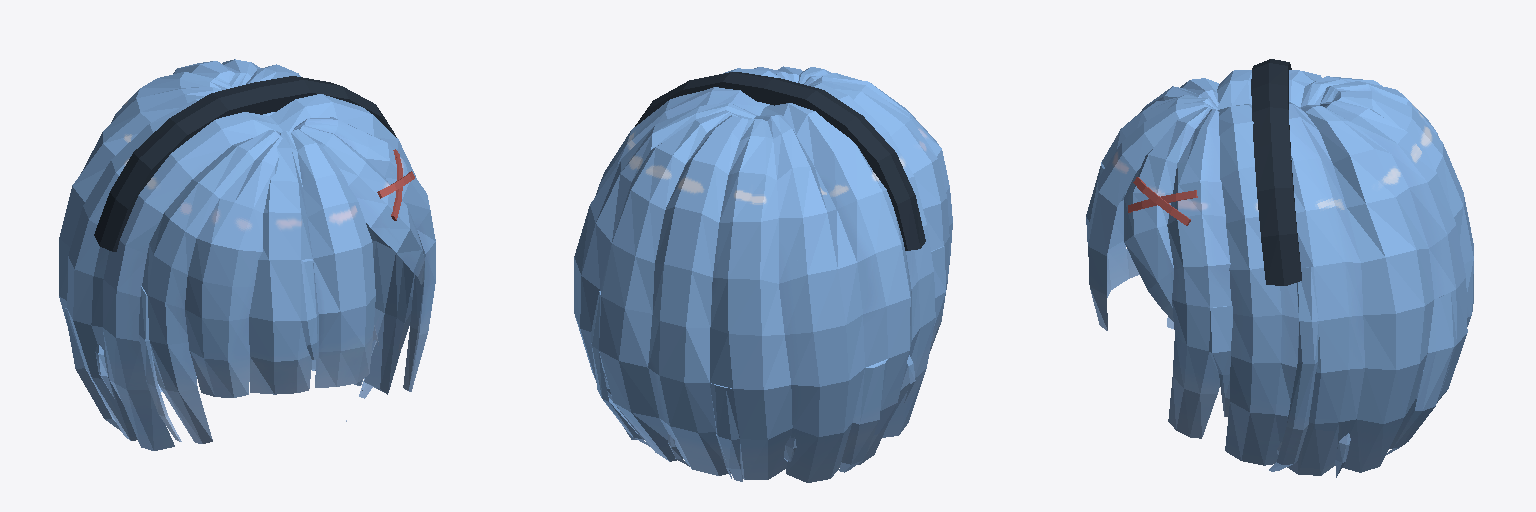
3 renders of one model, left to right at view 1: azimuth 30°, elevation 25°; view 2: azimuth 150°, elevation 25°; view 3: azimuth 270°, elevation 25°, orthographic.
Parts seen in each view (by area): view 1: NurbsPath.013; view 2: NurbsPath.013; view 3: NurbsPath.013.
Part boxes in pixels (x1,y1,x2,y2): NurbsPath.013: (59, 59, 435, 450); NurbsPath.013: (574, 66, 952, 482); NurbsPath.013: (1086, 59, 1473, 477).
Size of the model in its own units: 1.18 by 1.21 by 1.22.
1 materials, 1 textured.